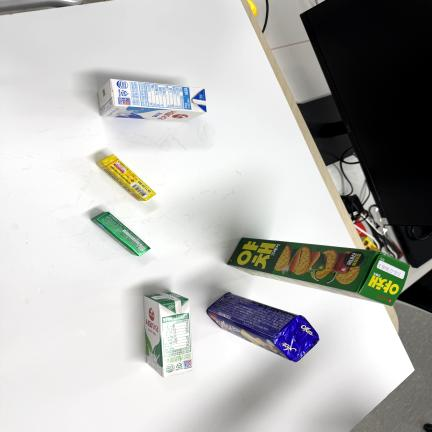cracker_ace: (207, 293, 319, 362)
cracker_vege: (228, 238, 409, 306)
gum_green: (91, 212, 150, 256)
gum_yellow: (97, 154, 156, 201)
milk_blue: (98, 79, 208, 123)
milk_green: (144, 292, 193, 377)
